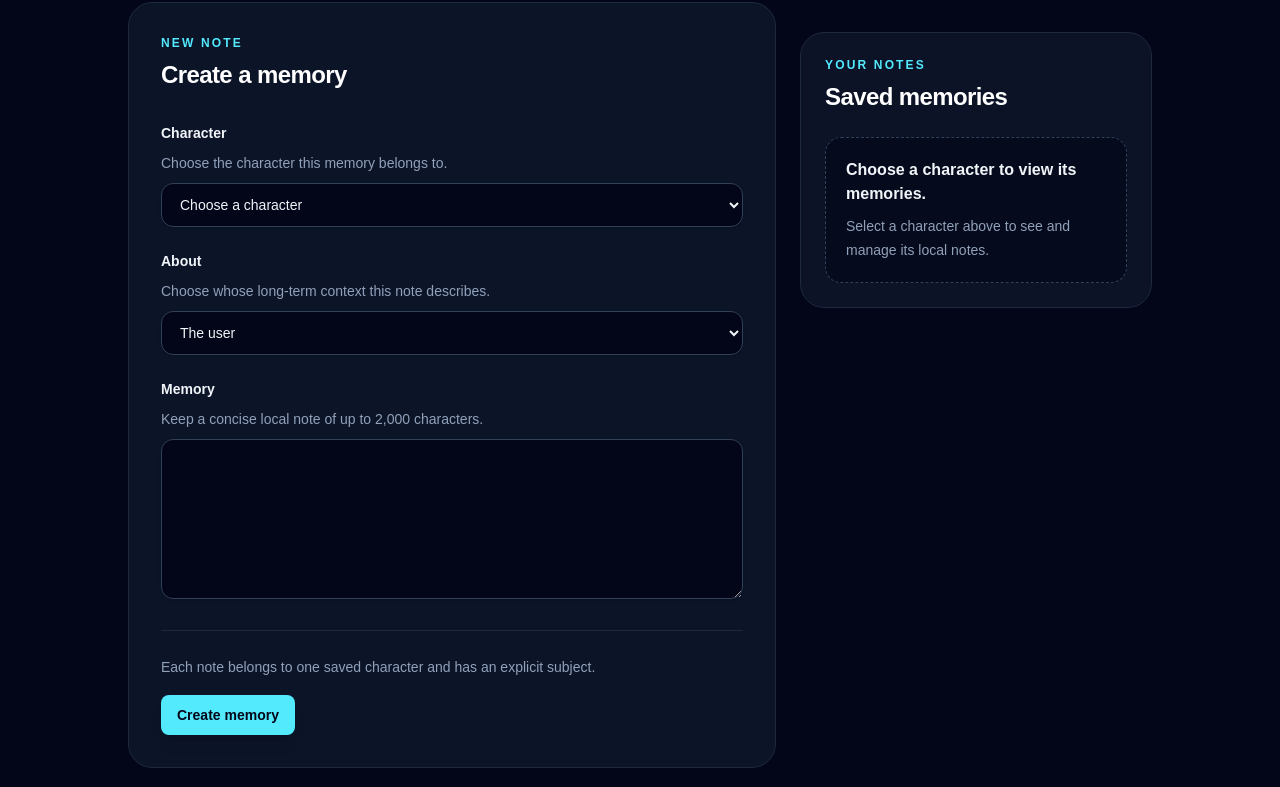
Test: MemoryManagementScreen › shows field-level feedback for missing character selection and content
(page scrolled)
Expected: the heading "Create a memory" is shown, [161,59,347,91]
Step 1. Click the button "Create memory" → (228, 715), box [161,695,295,735]
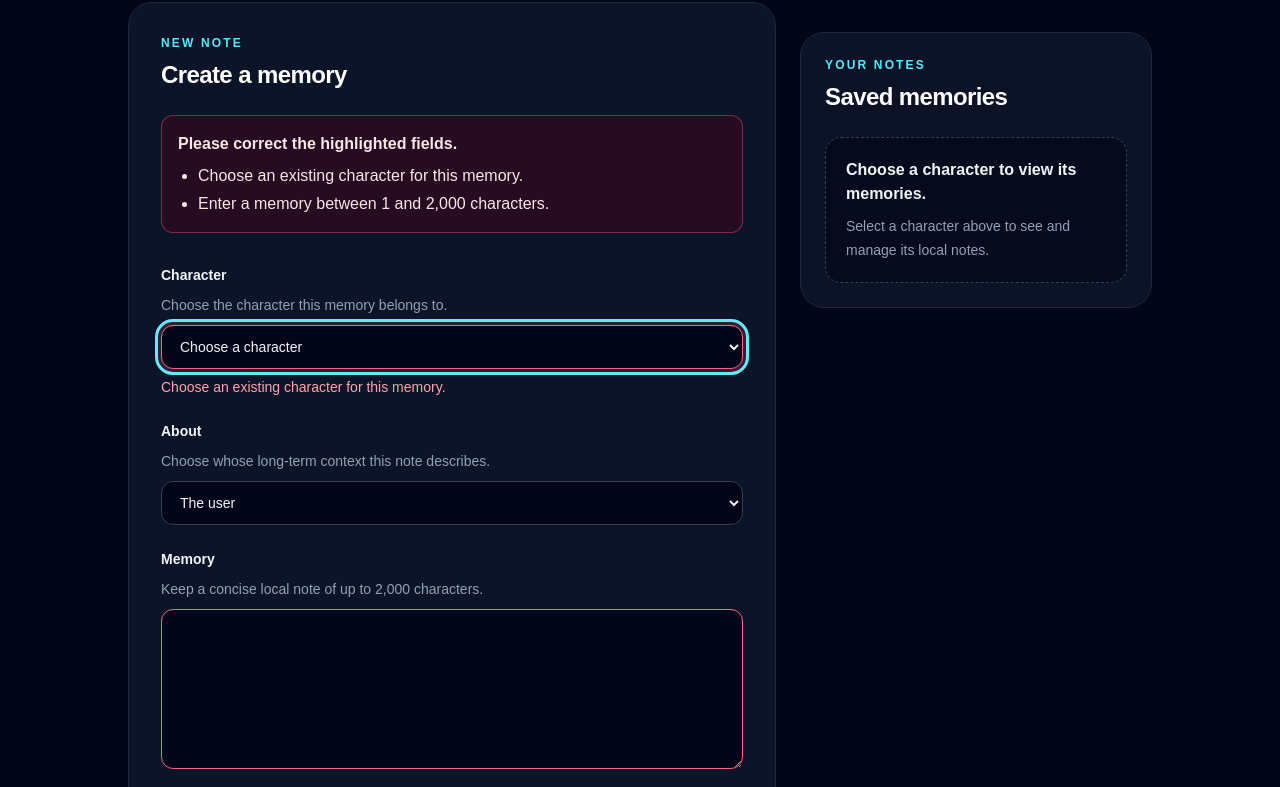
Now the message "Please correct the highlighted fields." is shown, box [161,115,743,233]
